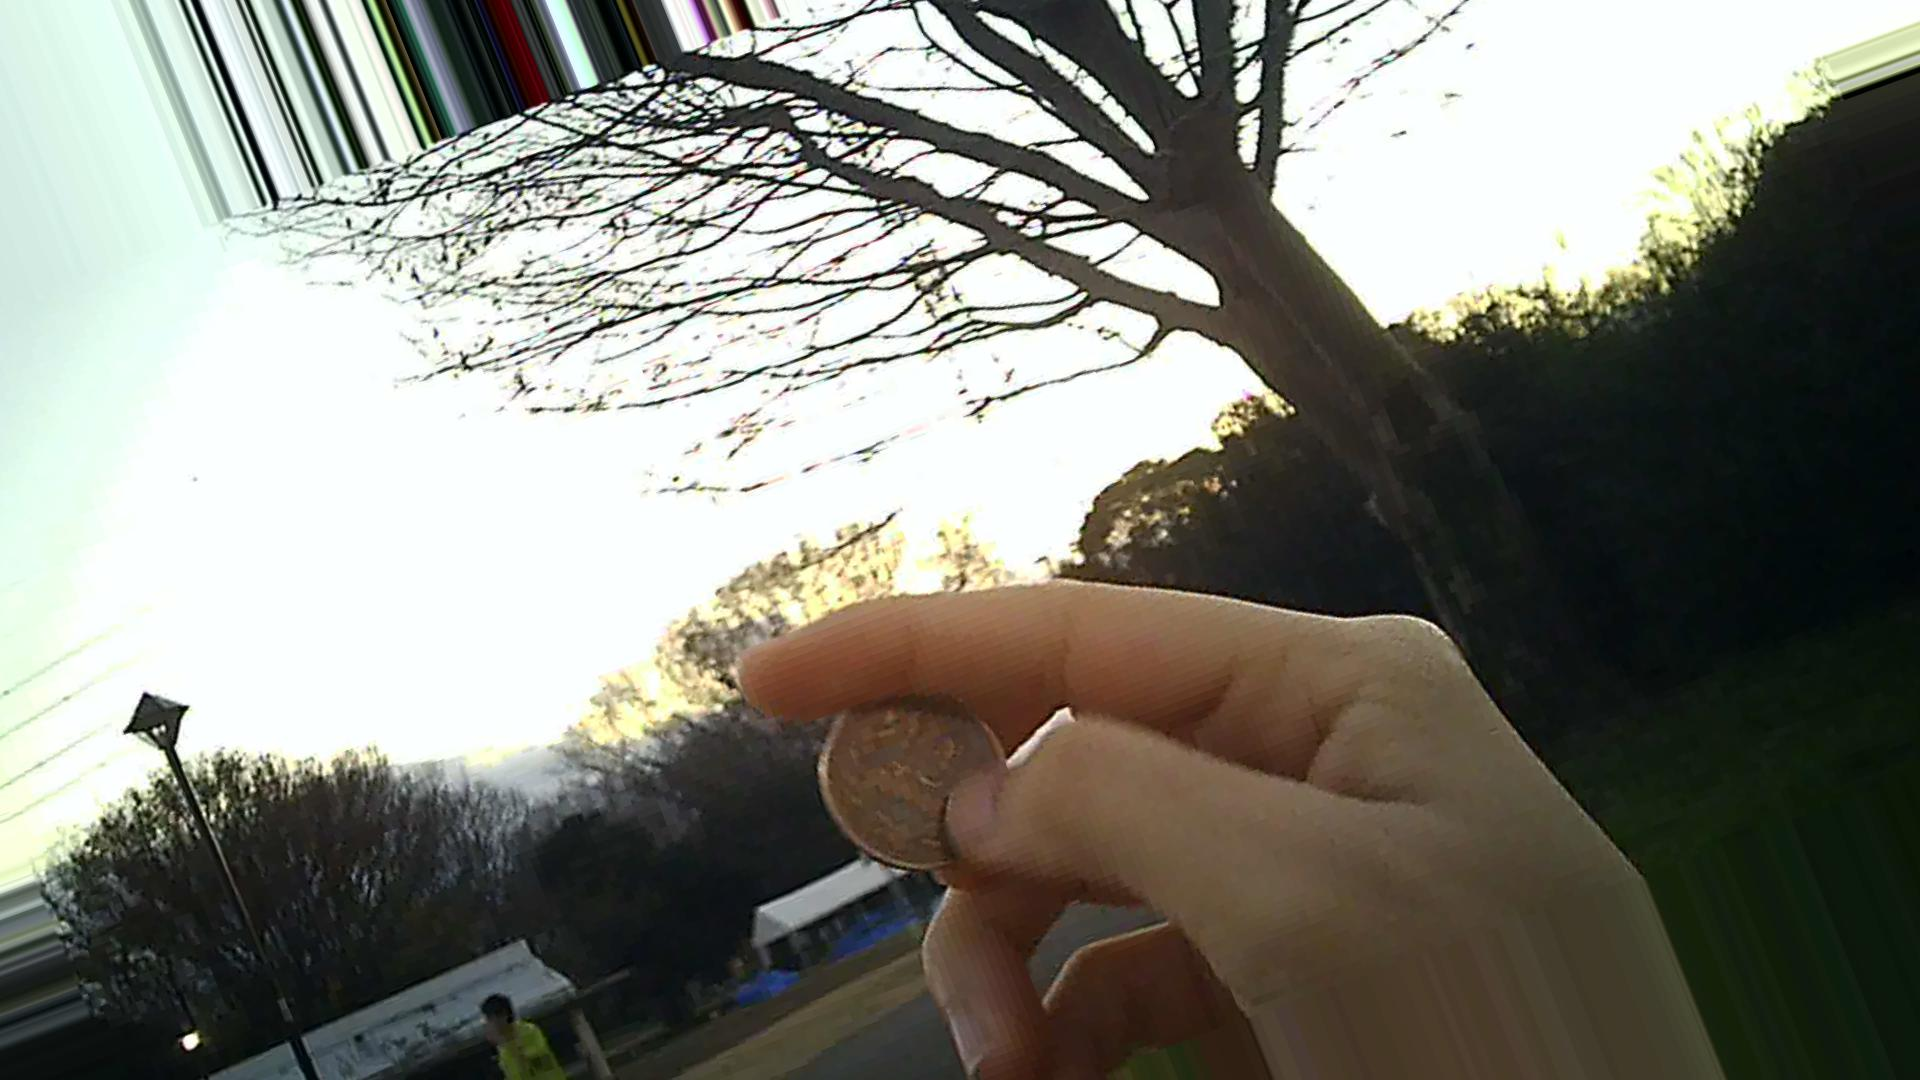10 Yen: (796, 687, 1010, 865)
